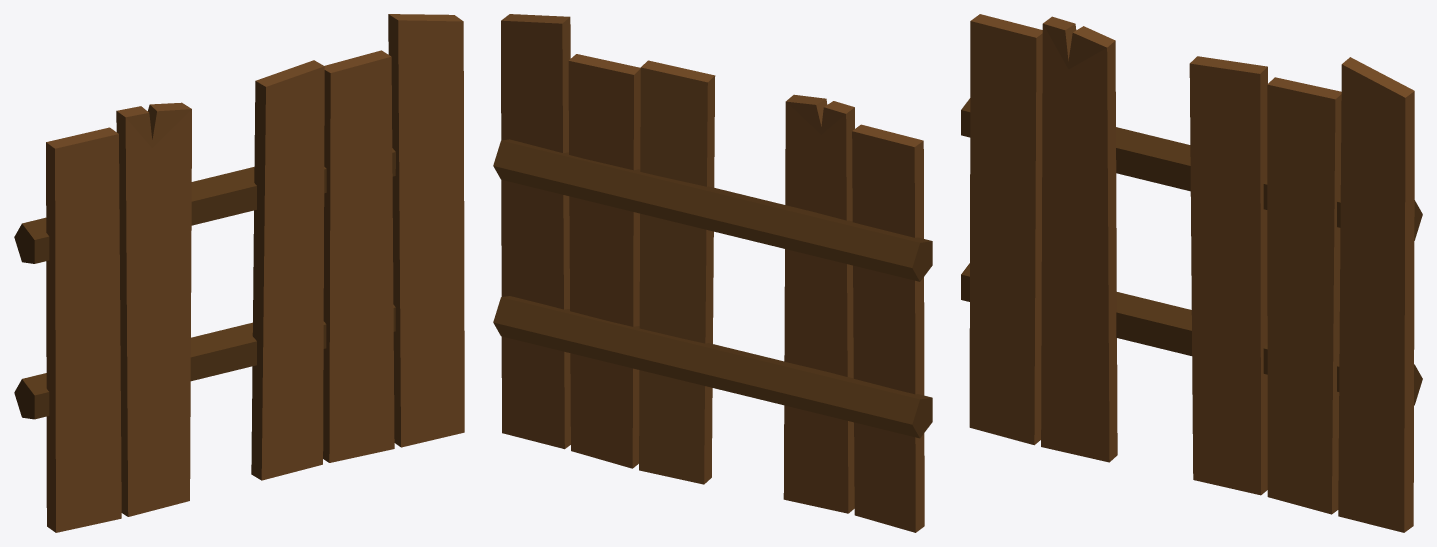
The model's file is E_A_FenceB.fbx.
3 views of the same model, side by side, from view 1: azimuth 30°, elevation 25°; view 2: azimuth 150°, elevation 25°; view 3: azimuth 330°, elevation 25° (orthographic). The views are drawn at different scales.
Parts seen in each view (by area): view 1: E_A_FenceB; view 2: E_A_FenceB; view 3: E_A_FenceB.
Part boxes in pixels (left/top/right/bottom): E_A_FenceB: left=14, top=14, right=464, bottom=532; E_A_FenceB: left=493, top=14, right=932, bottom=532; E_A_FenceB: left=961, top=14, right=1422, bottom=532.
Bounding box in the file's own units: 466 × 446 × 57.29.
